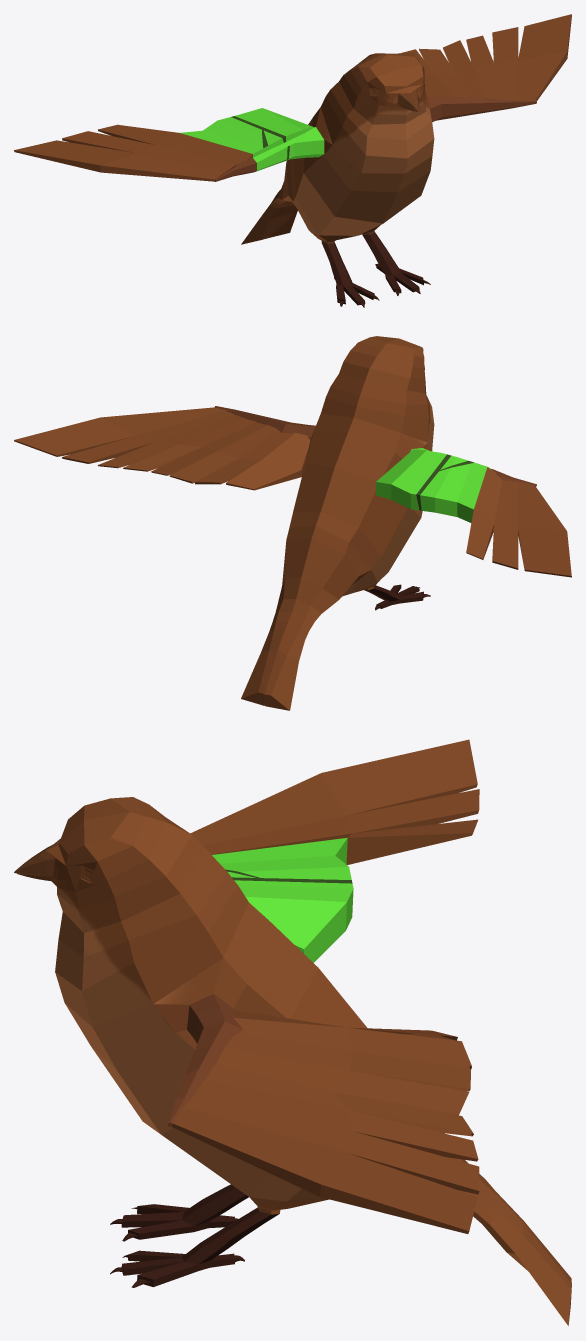
Rendered from pajaro4venda.fbx.
3 views of the same model, one above another, from view 1: azimuth 30°, elevation 25°; view 2: azimuth 150°, elevation 25°; view 3: azimuth 270°, elevation 25° (orthographic). The views are drawn at different scales.
Visible parts, largest first — view 1: Cube; view 2: Cube; view 3: Cube.
Boxes of the visible parts, x1=… form: Cube: x1=14, y1=14, x2=571, y2=307; Cube: x1=14, y1=336, x2=571, y2=710; Cube: x1=14, y1=739, x2=571, y2=1325.
Bounding box in the file's own units: 1022 × 479 × 490.
